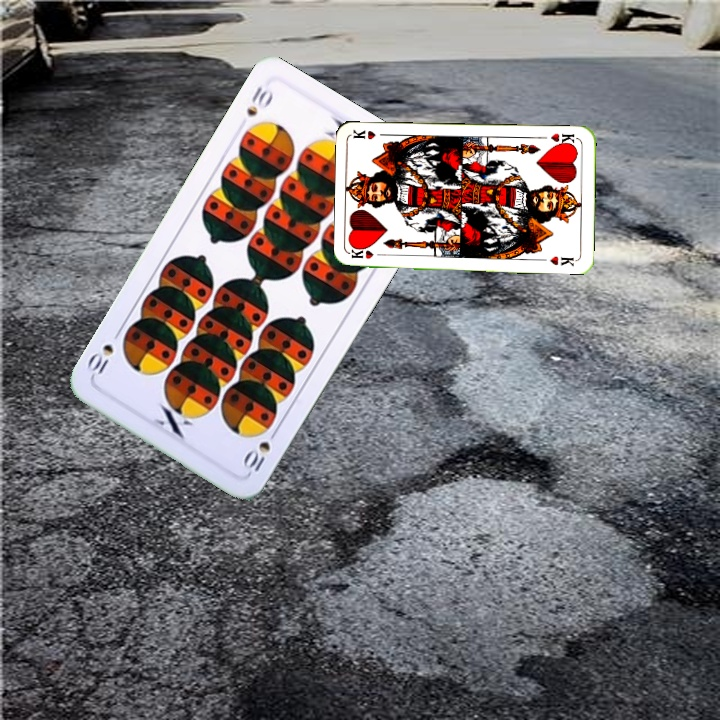HK: (348, 245, 389, 262), (547, 129, 580, 148)
S10: (238, 424, 281, 477), (242, 82, 276, 119)
